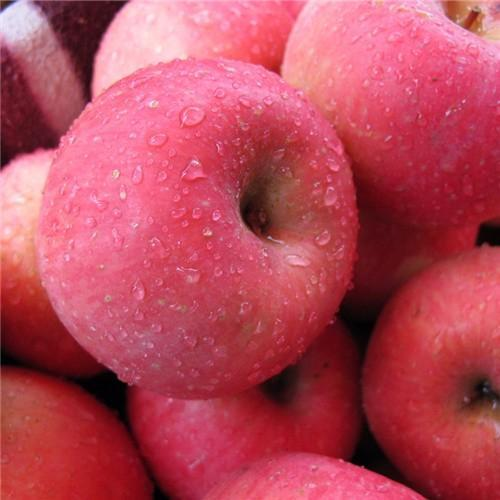apple: (27, 52, 361, 394), (286, 1, 496, 231), (356, 253, 500, 500)
